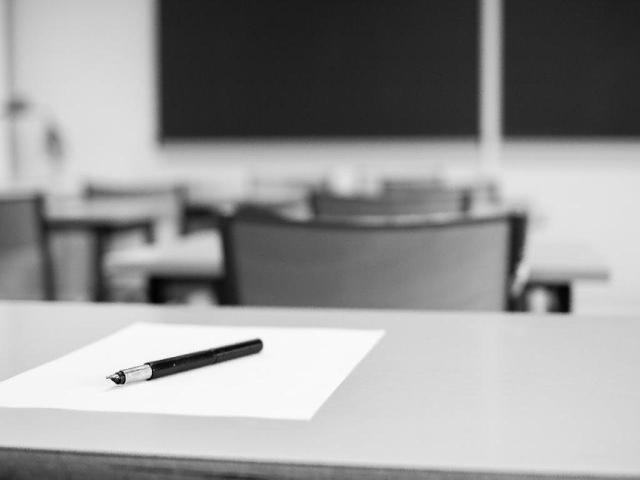PEN: (89, 334, 277, 396)
